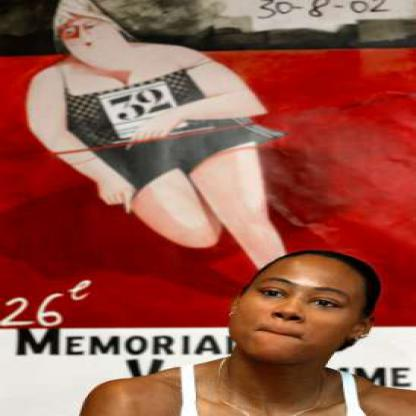face: (237, 251, 368, 368)
